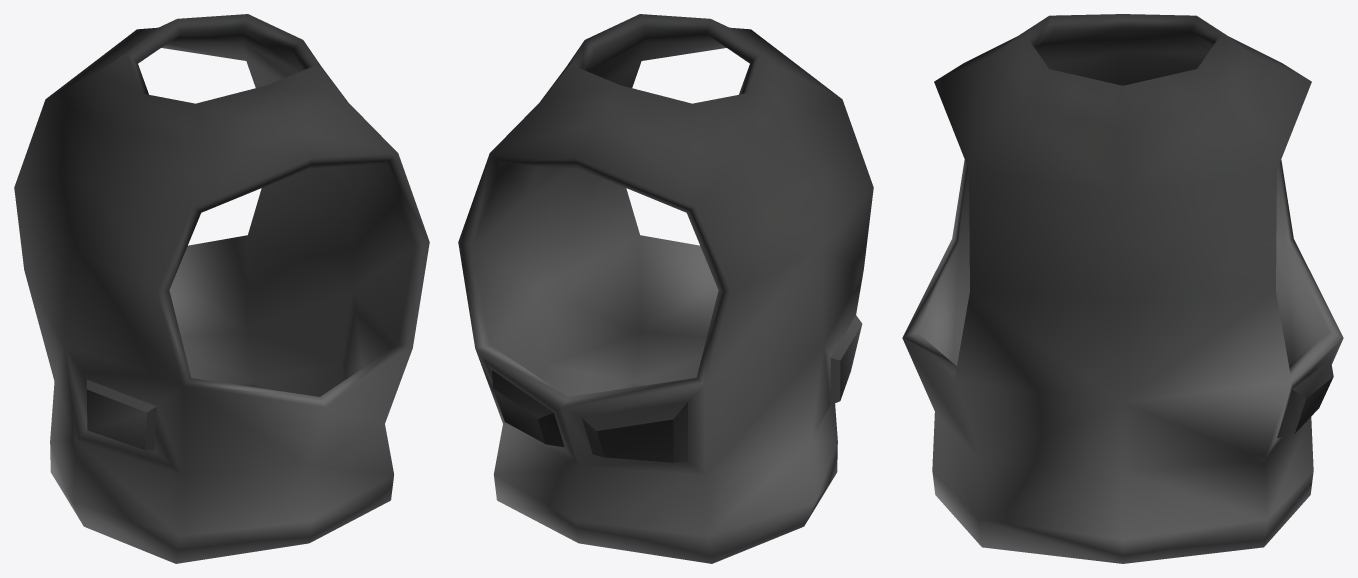
File: SteelVest.fbx
3 renders of one model, left to right at view 1: azimuth 30°, elevation 25°; view 2: azimuth 150°, elevation 25°; view 3: azimuth 270°, elevation 25°, orthographic. The views are drawn at different scales.
Parts seen in each view (by area): view 1: SteelVest; view 2: SteelVest; view 3: SteelVest.
Part boxes in pixels (x1,y1,x2,y2): SteelVest: (14, 14, 429, 563); SteelVest: (458, 14, 873, 563); SteelVest: (902, 14, 1343, 563).
Bounding box in the file's own units: 0.2936 × 0.3401 × 0.4033.
